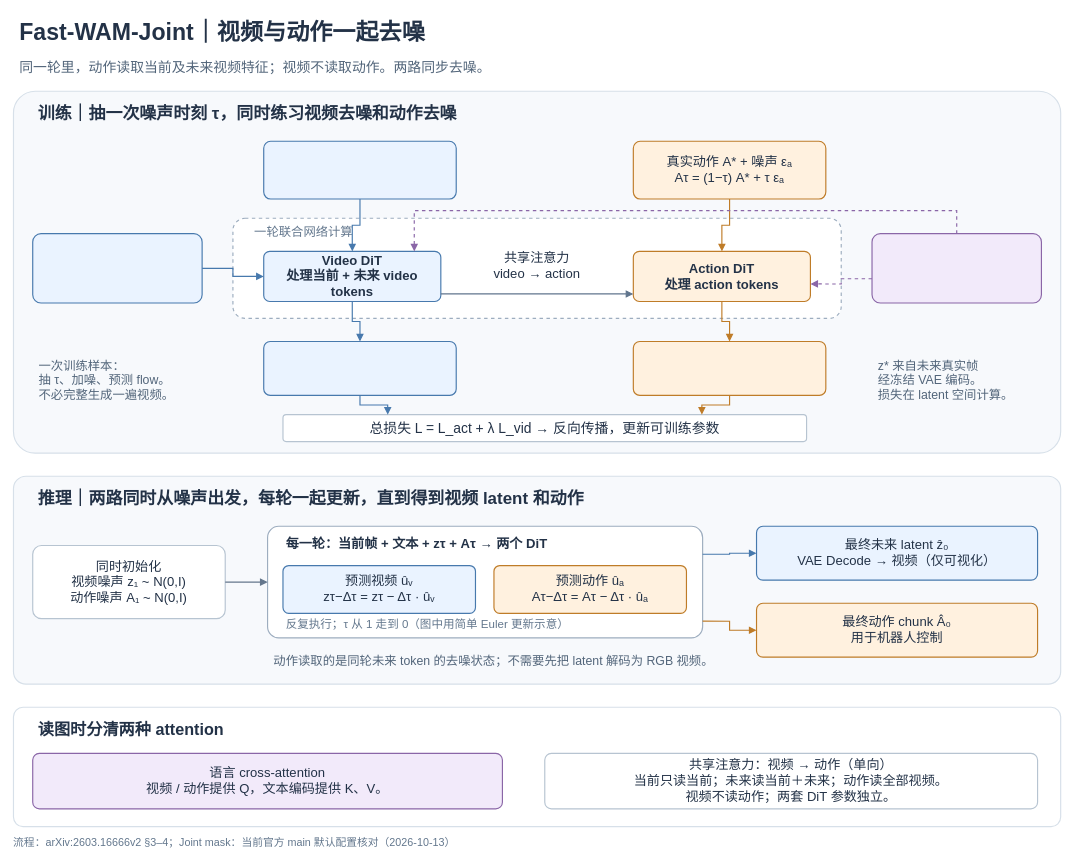
The diagram is 1075 pixels wide and 864 high, and some of its shapes have lost their labels. Each missing label, with the centre of its shape:
"动作 flow 预测 ûₐ L_act = MSE(ûₐ, εₐ − A*)" belongs at pixel 729 368.
"当前帧 latent x_cur VAE 编码后保持干净 作为观测条件" belongs at pixel 117 268.
"文本编码 ℓ 两支读取同一语言条件" belongs at pixel 956 268.
"未来 latent z* + 噪声 εᵥ zτ = (1−τ) z* + τ εᵥ" belongs at pixel 359 169.
"视频 flow 预测 ûᵥ L_vid = MSE(ûᵥ, εᵥ − z*)" belongs at pixel 359 368.
